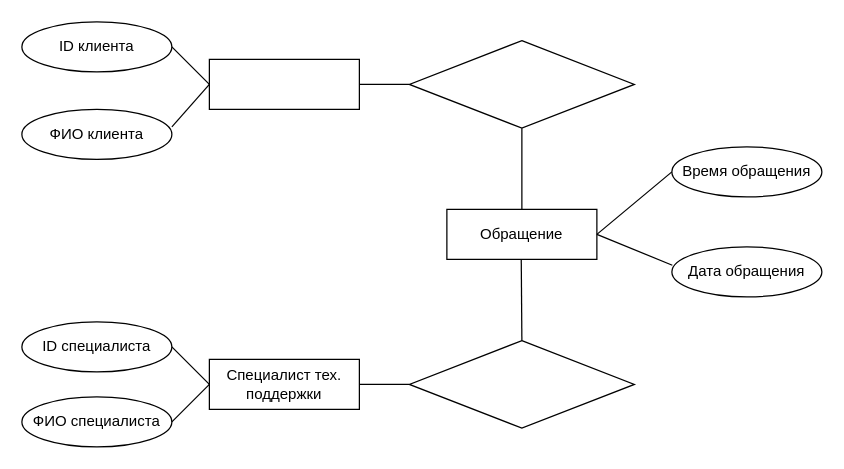
This 844x469 diagram has some shape labels left out. Each missing label, with the centre of its shape:
"Задает вопрос" belongs at (x=521, y=83).
"Клиент" belongs at (x=283, y=83).
"Консультирует" belongs at (x=521, y=383).
